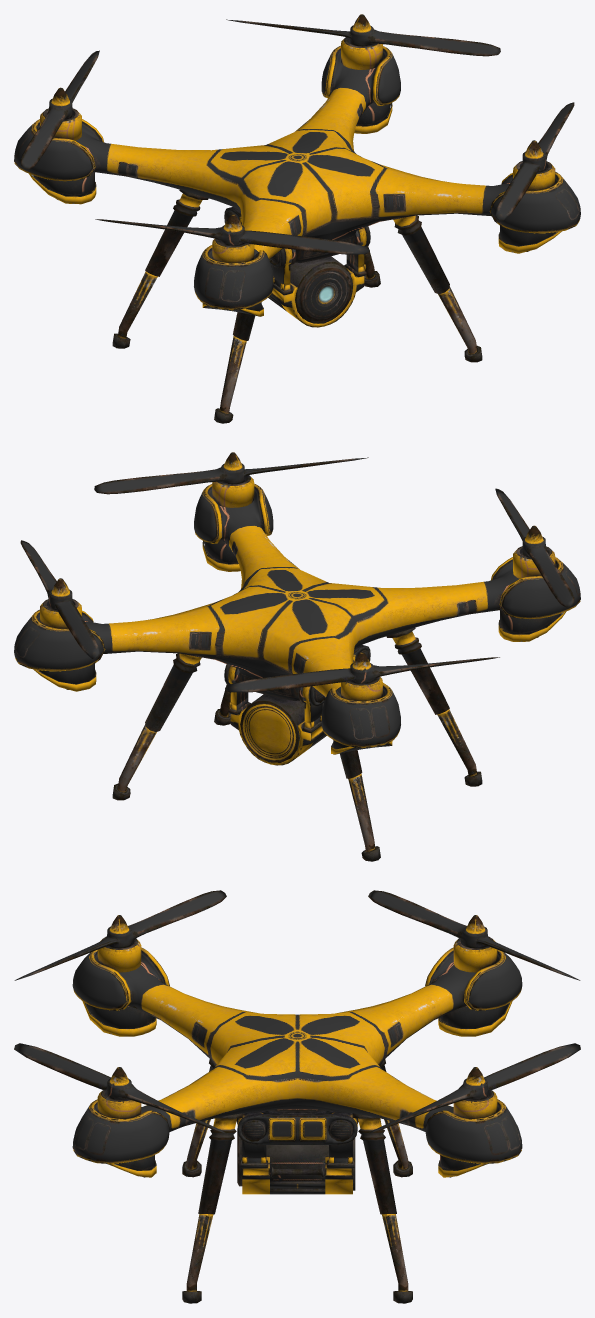
The model's file is new_drone.glb.
3 views of the same model, one above another, from view 1: azimuth 30°, elevation 25°; view 2: azimuth 150°, elevation 25°; view 3: azimuth 270°, elevation 25° (orthographic). The views are drawn at different scales.
Visible parts, largest first — view 1: DroneA; view 2: DroneA; view 3: DroneA.
Boxes of the visible parts, <box> form: DroneA: <box>14,14,580,423</box>; DroneA: <box>14,452,580,861</box>; DroneA: <box>14,890,580,1303</box>.
Bounding box in the file's own units: 2 × 0.9458 × 1.98.
Materials: 1 (1 with a texture image).
